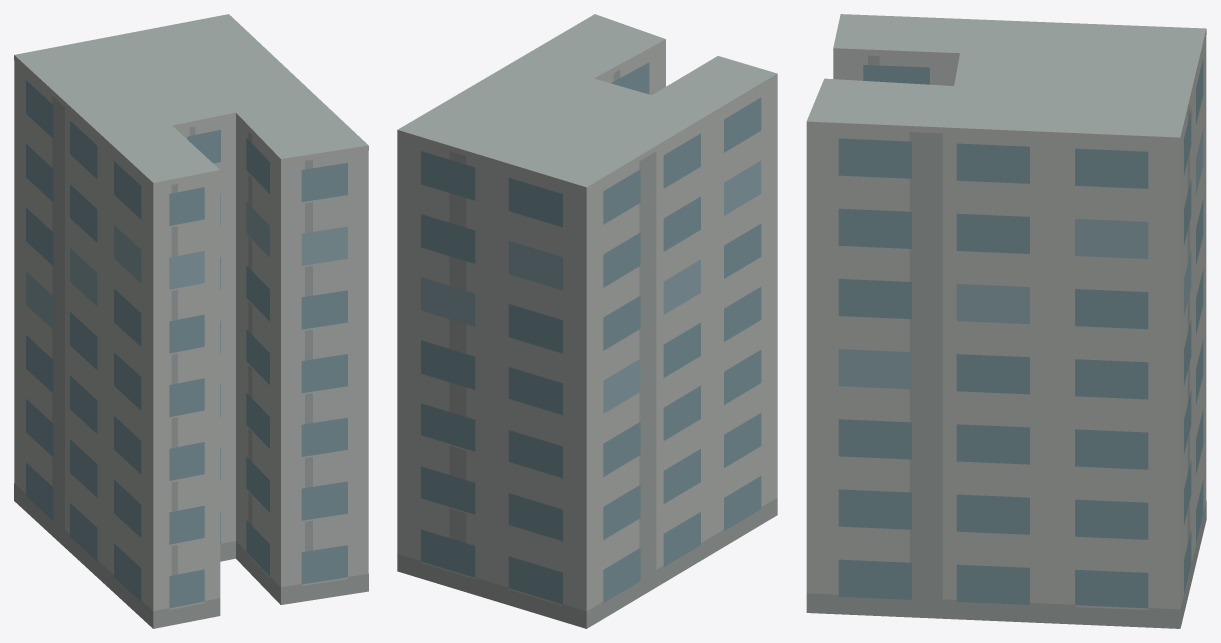
File: survey-upis-32527843.glb
The picture shows the model from 3 angles, left to right: view 1: azimuth 30°, elevation 25°; view 2: azimuth 150°, elevation 25°; view 3: azimuth 270°, elevation 25°; orthographic projection. The views are drawn at different scales.
Visible parts, largest first — view 1: survey-upis-32527843.tmp; view 2: survey-upis-32527843.tmp; view 3: survey-upis-32527843.tmp.
Part boxes in pixels (x1,y1,x2,y2): survey-upis-32527843.tmp: (14,14,368,628); survey-upis-32527843.tmp: (397,14,777,628); survey-upis-32527843.tmp: (806,14,1206,628).
Bounding box in the file's own units: 10.63 × 19.7 × 14.54.
